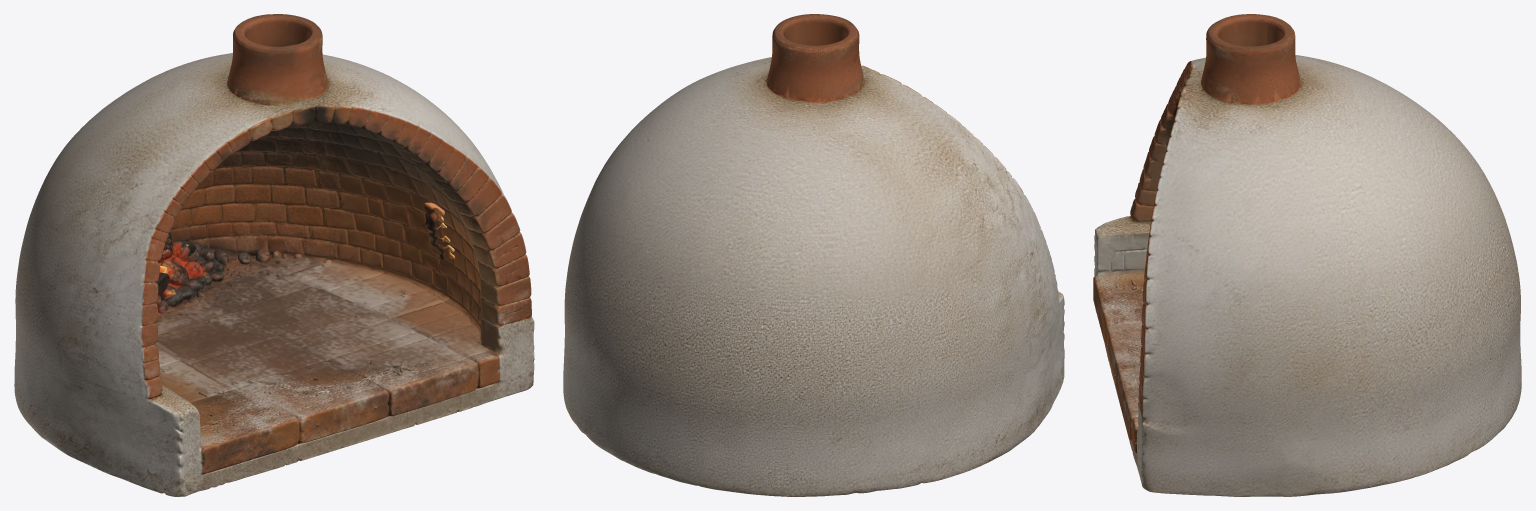
The model's file is pizzaofen.glb.
3 renders of one model, left to right at view 1: azimuth 30°, elevation 25°; view 2: azimuth 150°, elevation 25°; view 3: azimuth 270°, elevation 25°, orthographic. The views are drawn at different scales.
Parts seen in each view (by area): view 1: tripo_node_9812a877-e316-460e-9aa0-28847b636b63; view 2: tripo_node_9812a877-e316-460e-9aa0-28847b636b63; view 3: tripo_node_9812a877-e316-460e-9aa0-28847b636b63.
Part boxes in pixels (left/top/right/bottom): tripo_node_9812a877-e316-460e-9aa0-28847b636b63: left=14, top=14, right=534, bottom=496; tripo_node_9812a877-e316-460e-9aa0-28847b636b63: left=563, top=14, right=1064, bottom=496; tripo_node_9812a877-e316-460e-9aa0-28847b636b63: left=1093, top=14, right=1521, bottom=496.
Bounding box in the file's own units: 1.06 × 0.85 × 0.91.
Materials: 1 (1 with a texture image).
